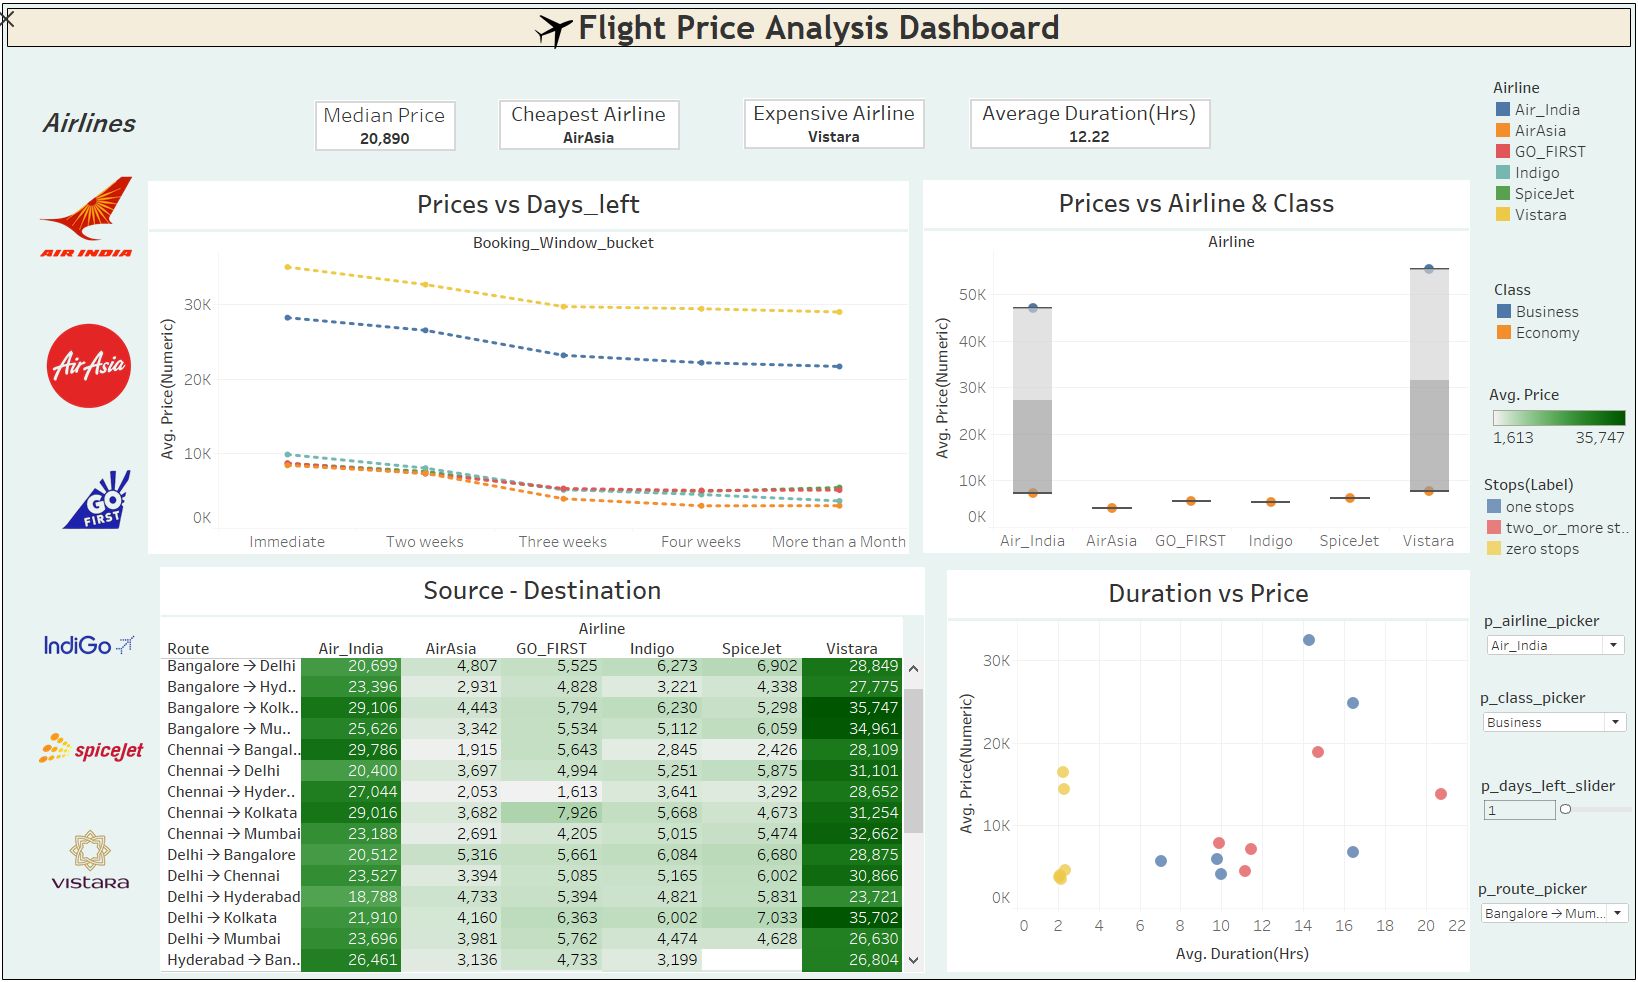

The page's visual inventory and layout, read from the dashboard file:
{"tool":"tableau","page":{"name":"Dashboard 1","canvas":[1000,1000],"units":"permille","ordinal":0},"visuals":[{"type":"dashboard-object","box":[0,9.8,14.6,29.6]},{"type":"text","box":[5.5,11.1,989.1,57.9]},{"type":"image","param":"C:/Users/A GOUUTHAM/Downloads/Flight_logo-removebg-preview.png","box":[327.3,17.2,37.6,40.6]},{"type":"image","param":"C:/Users/A GOUUTHAM/Downloads/output-onlinepngtools (1).png","box":[6.7,70.2,891.5,916.3]},{"type":"legend","title":"Prices vs Days_left","param":"[federated.199uk9h1dbqovp14xi7sr1xfghpp].[none:airline:nk]","box":[908.5,82.5,84.9,182.3]},{"type":"worksheet","title":"Sheet 7","mark":"Automatic","box":[453.9,103.5,122.4,69]},{"type":"worksheet","title":"Sheet 8","mark":"Automatic","box":[590.9,103.5,149.7,67.7]},{"type":"worksheet","title":"Sheet 6","mark":"Automatic","box":[305.4,104.7,126.7,64]},{"type":"worksheet","title":"KPIs Overview","mark":"Text","box":[193.9,105.9,95.2,66.5]},{"type":"text","box":[26.7,112.1,60.6,35.7]},{"type":"image","param":"C:/Users/A GOUUTHAM/Downloads/AirIndia_logo-removebg-preview.png","box":[26.1,165,58.8,117]},{"type":"worksheet","title":"Prices vs Airline & Class","mark":"Circle","rows":["Calculation_1380353333879255040"],"cols":["airline"],"box":[563,186,331.5,375.6]},{"type":"worksheet","title":"Prices vs Days_left","mark":"Line","rows":["Calculation_1380353333879255040"],"cols":["Calculation_633881695858929664"],"box":[93.3,187.2,461.2,375.6]},{"type":"legend","title":"Prices vs Airline & Class","param":"[federated.199uk9h1dbqovp14xi7sr1xfghpp].[none:class:nk]","box":[909.1,285.7,80,78.8]},{"type":"image","param":"C:/Users/A GOUUTHAM/Downloads/Airasia_logo-removebg-preview.png","box":[26.1,328.8,63,87.4]},{"type":"legend","title":"Source - Destination","param":"[federated.199uk9h1dbqovp14xi7sr1xfghpp].[avg:price:qk]","box":[906.1,391.6,85.5,88.7]},{"type":"image","param":"C:/Users/A GOUUTHAM/Downloads/Go_first_logo-removebg-preview.png","box":[31.5,458.1,58.8,109.6]},{"type":"legend","title":"Duration vs Price","param":"[federated.199uk9h1dbqovp14xi7sr1xfghpp].[none:Calculation_1380353333881200644:n","box":[903,482.8,90.9,102.2]},{"type":"worksheet","title":"Source - Destination","mark":"Automatic","rows":["route "],"cols":["airline"],"box":[100.6,576.4,463.6,408.9]},{"type":"worksheet","title":"Duration vs Price","mark":"Shape","rows":["Calculation_1380353333879255040"],"cols":["duration(hrs)"],"box":[577.6,578.8,317,405.2]},{"type":"image","param":"C:/Users/A GOUUTHAM/Downloads/Indigo_logo-removebg-preview.png","box":[26.1,598.5,63,107.1]},{"type":"parameter","param":"[Parameters].[Airline Parameter]","box":[903,619.5,87.3,59.1]},{"type":"parameter","param":"[Parameters].[Class Parameter]","box":[900.6,697,90.9,54.2]},{"type":"image","param":"C:/Users/A GOUUTHAM/Downloads/Spicejet_logo-removebg-preview.png","box":[26.7,727.8,64.2,77.6]},{"type":"parameter","param":"[Parameters].[Days Left Parameter]","box":[901.2,785.7,93.3,59.1]},{"type":"image","param":"C:/Users/A GOUUTHAM/Downloads/Vistara_logo-removebg-preview.png","box":[25.4,807.9,65.5,125.6]},{"type":"parameter","param":"[Parameters].[Route Parameter]","box":[899.4,889.2,93.3,54.2]}]}

Visuals, with their boxes on the dashboard's canvas, which has no fixed pixel size, in thousandths of its width and height (x1, y1, x2, y2). These are canvas units, not pixel positions in the 1638x982 screenshot, which may show the page scaled, cropped or inside an application window:
dashboard-object: rect(0, 10, 15, 39)
text: rect(6, 11, 995, 69)
image: rect(327, 17, 365, 58)
image: rect(7, 70, 898, 986)
"Prices vs Days_left" legend: rect(908, 82, 993, 265)
"Sheet 7" worksheet: rect(454, 104, 576, 172)
"Sheet 8" worksheet: rect(591, 104, 741, 171)
"Sheet 6" worksheet: rect(305, 105, 432, 169)
"KPIs Overview" worksheet (Text marks): rect(194, 106, 289, 172)
text: rect(27, 112, 87, 148)
image: rect(26, 165, 85, 282)
"Prices vs Airline & Class" worksheet (Circle marks): rect(563, 186, 894, 562)
"Prices vs Days_left" worksheet (Line marks): rect(93, 187, 554, 563)
"Prices vs Airline & Class" legend: rect(909, 286, 989, 364)
image: rect(26, 329, 89, 416)
"Source - Destination" legend: rect(906, 392, 992, 480)
image: rect(32, 458, 90, 568)
"Duration vs Price" legend: rect(903, 483, 994, 585)
"Source - Destination" worksheet: rect(101, 576, 564, 985)
"Duration vs Price" worksheet (Shape marks): rect(578, 579, 895, 984)
image: rect(26, 598, 89, 706)
parameter: rect(903, 620, 990, 679)
parameter: rect(901, 697, 992, 751)
image: rect(27, 728, 91, 805)
parameter: rect(901, 786, 994, 845)
image: rect(25, 808, 91, 934)
parameter: rect(899, 889, 993, 943)
